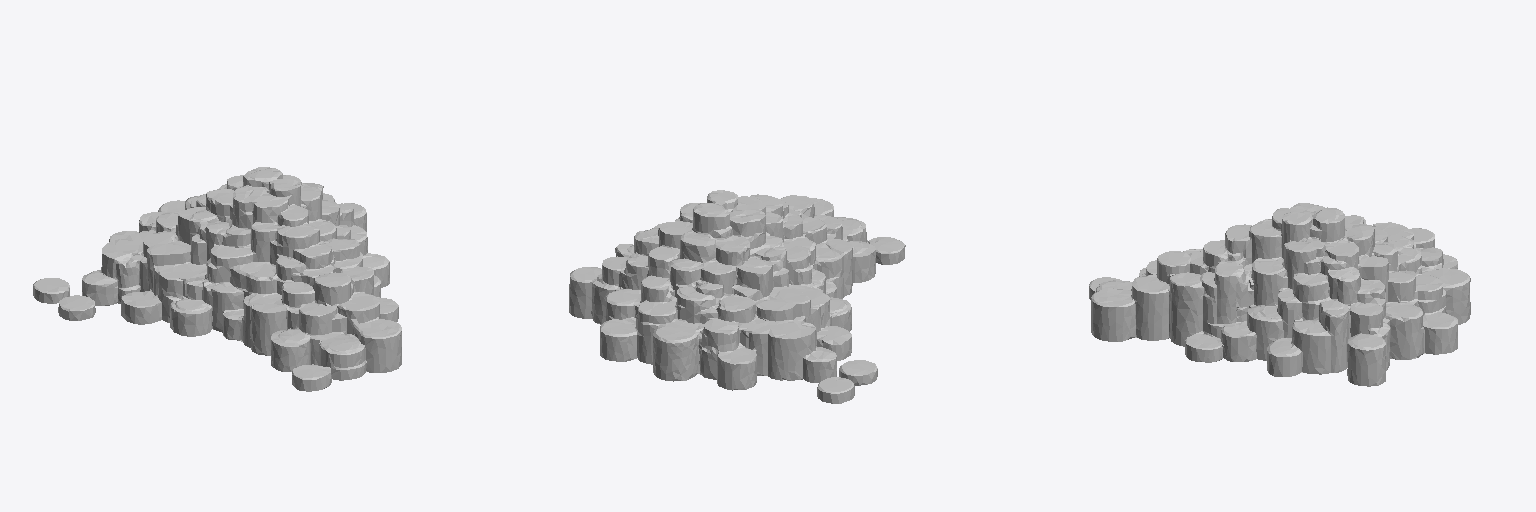
File: piramide.obj
3 renders of one model, left to right at view 1: azimuth 30°, elevation 25°; view 2: azimuth 150°, elevation 25°; view 3: azimuth 270°, elevation 25°, orthographic.
Parts seen in each view (by area): view 1: piramide_[number redacted]_texture; view 2: piramide_[number redacted]_texture; view 3: piramide_[number redacted]_texture.
Boxes of the visible parts, x1,y1,x2,y2 form: piramide_[number redacted]_texture: [33, 167, 401, 391]; piramide_[number redacted]_texture: [569, 190, 905, 403]; piramide_[number redacted]_texture: [1089, 203, 1470, 386].
Bounding box in the file's own units: 35.66 × 12.82 × 38.8.